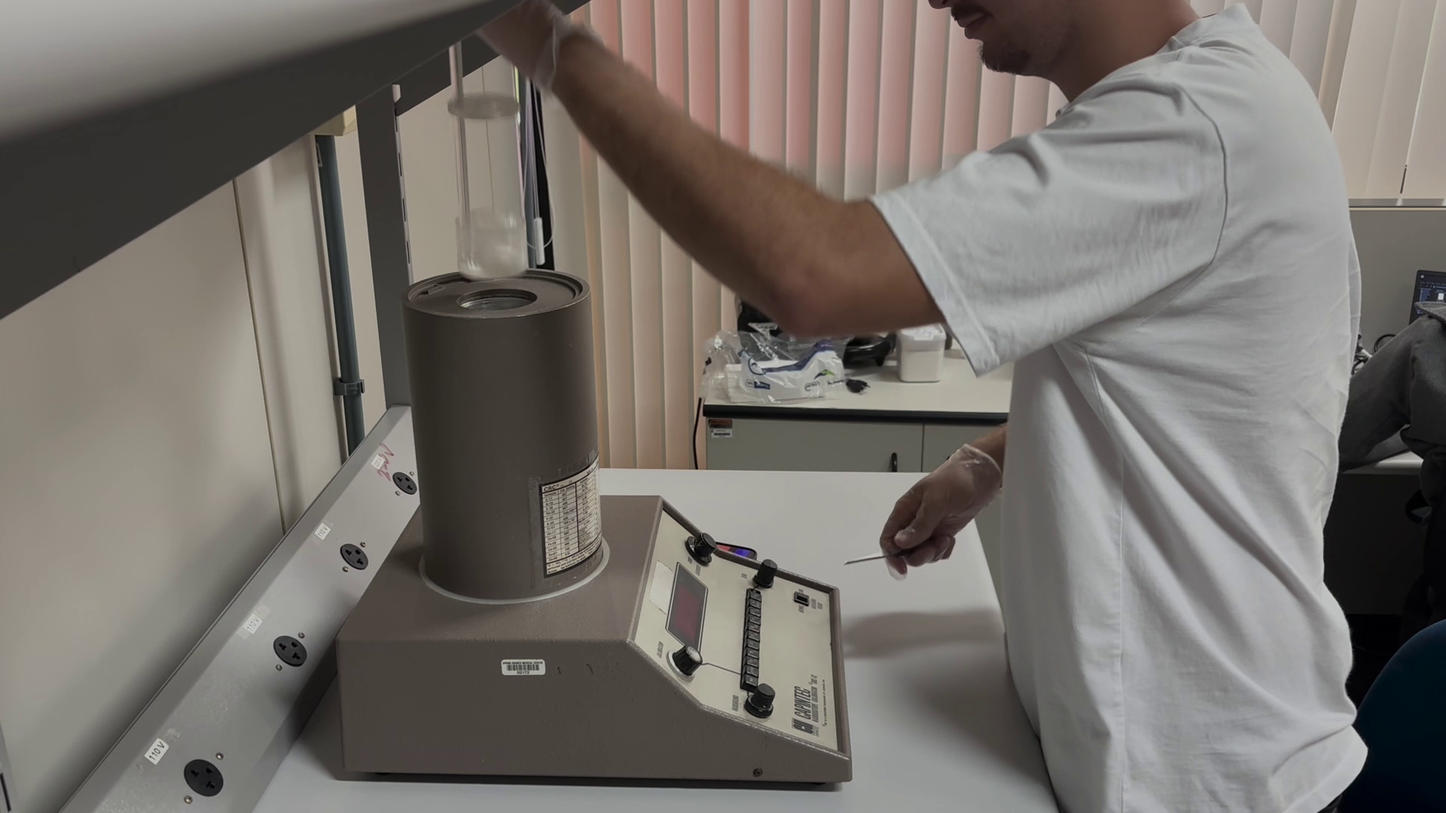Ativimetro: (398, 267, 609, 606)
Com_Luva: (876, 442, 1005, 579)
